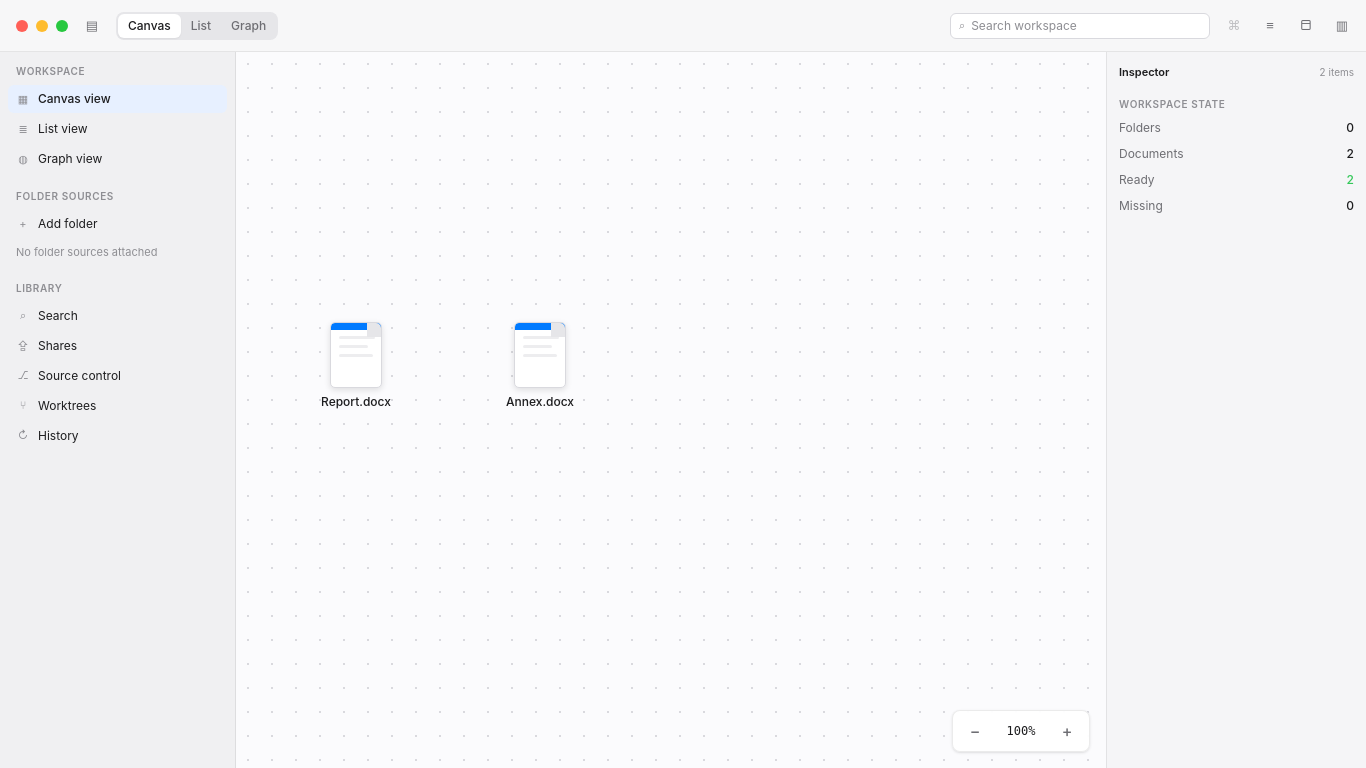
Test: UI-03 screen 12 — only overlays with a real source and trigger › mounts the merge-order overlay from the real PDF panel
Click the button named "PDF". click: (1306, 26)
box: [1294,14,1318,38]
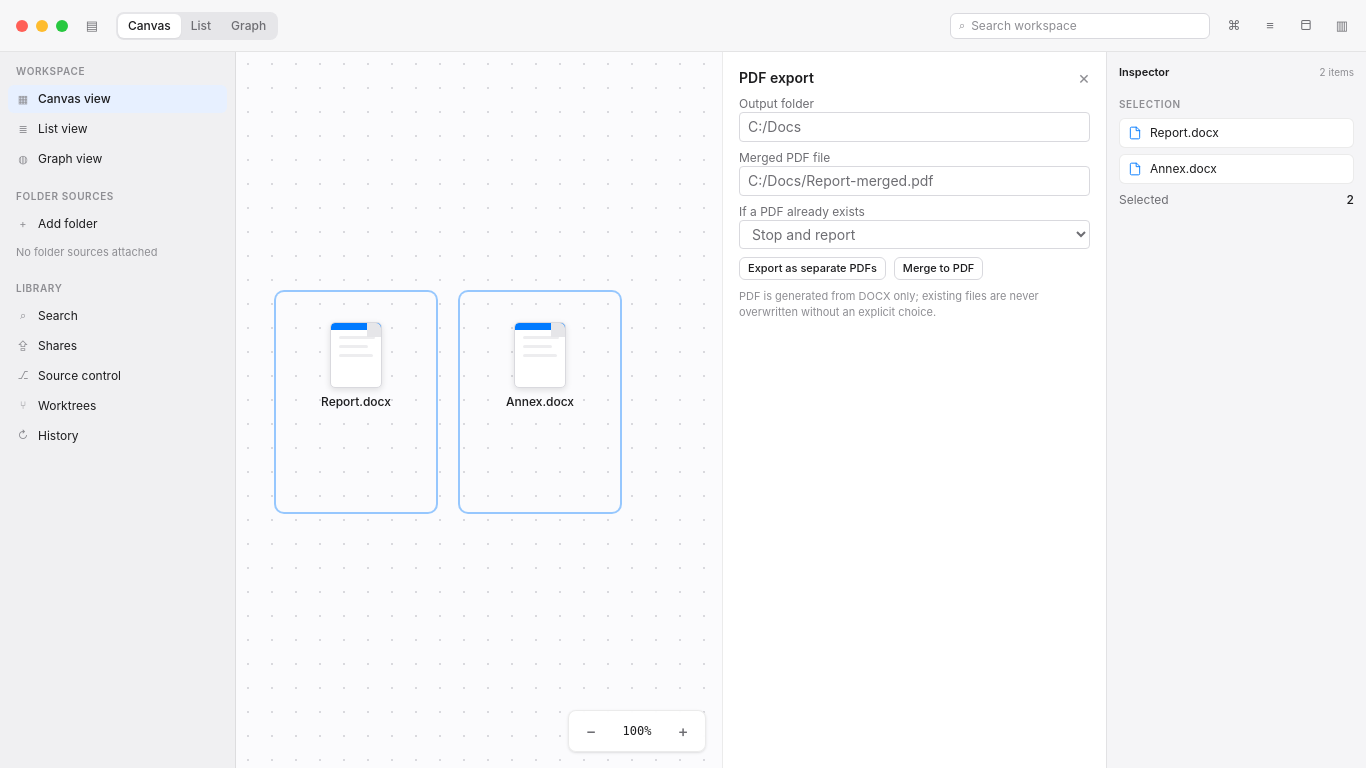
Click the button "Merge to PDF". click: (939, 268)
box: [894,257,983,280]
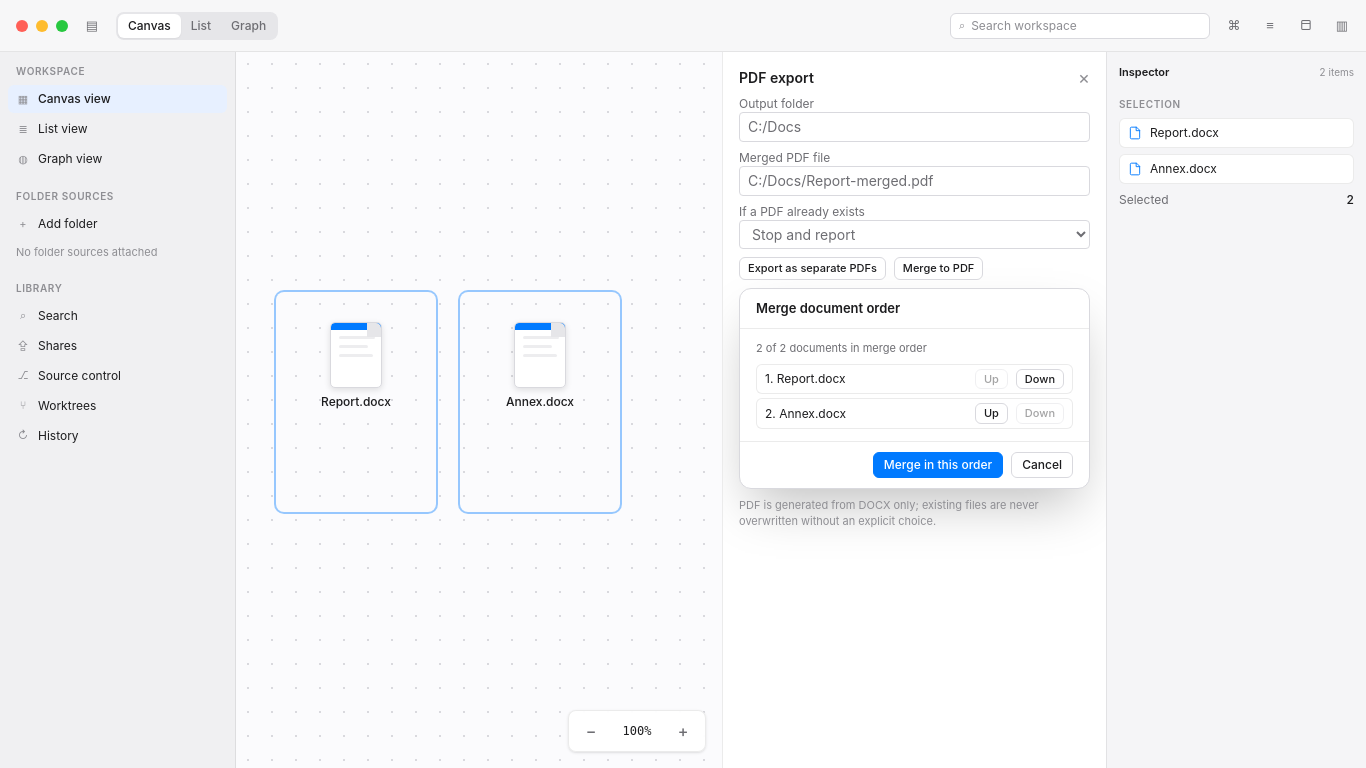
Result: the dialog "Merge document order" is shown at [739,288,1090,489]
Click the button "Cancel". click: (1042, 465)
box: [1011,452,1073,478]
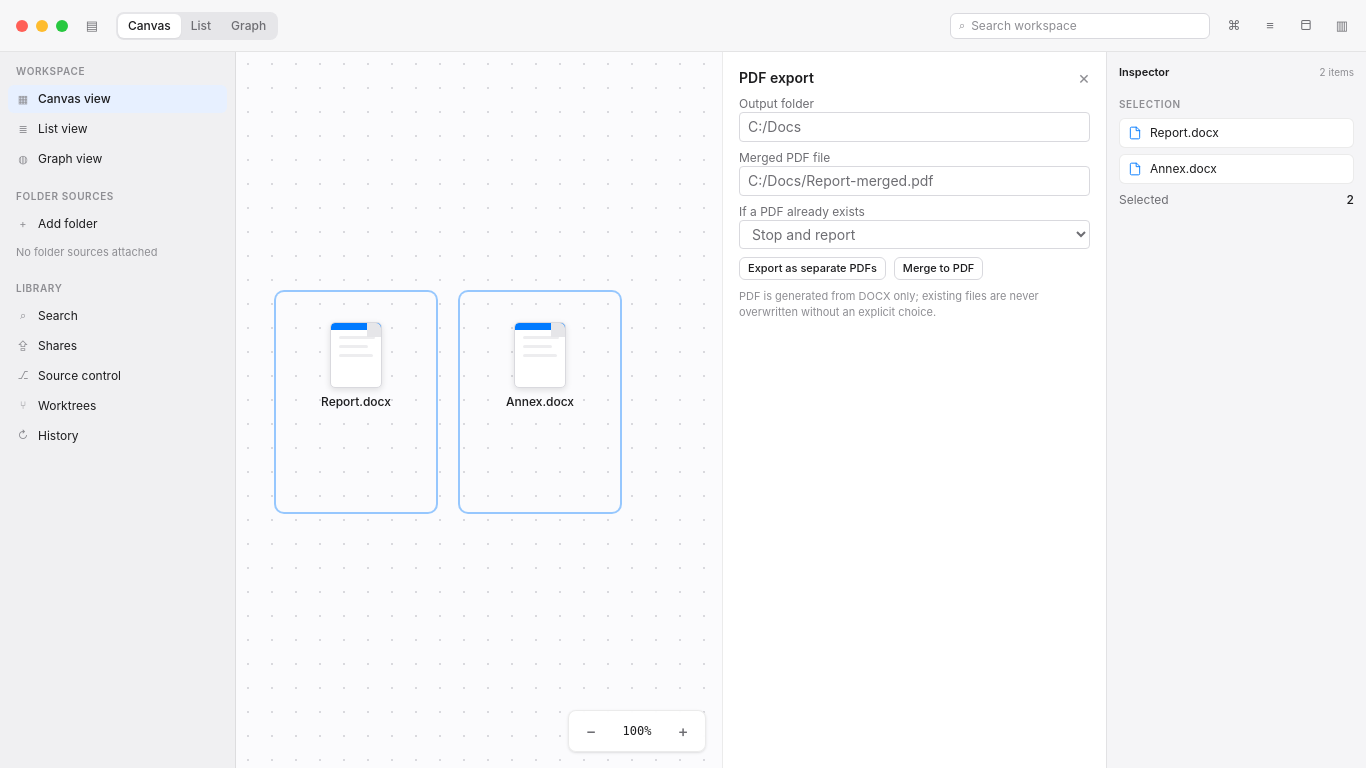
Result: the heading "Merge document order" is gone
